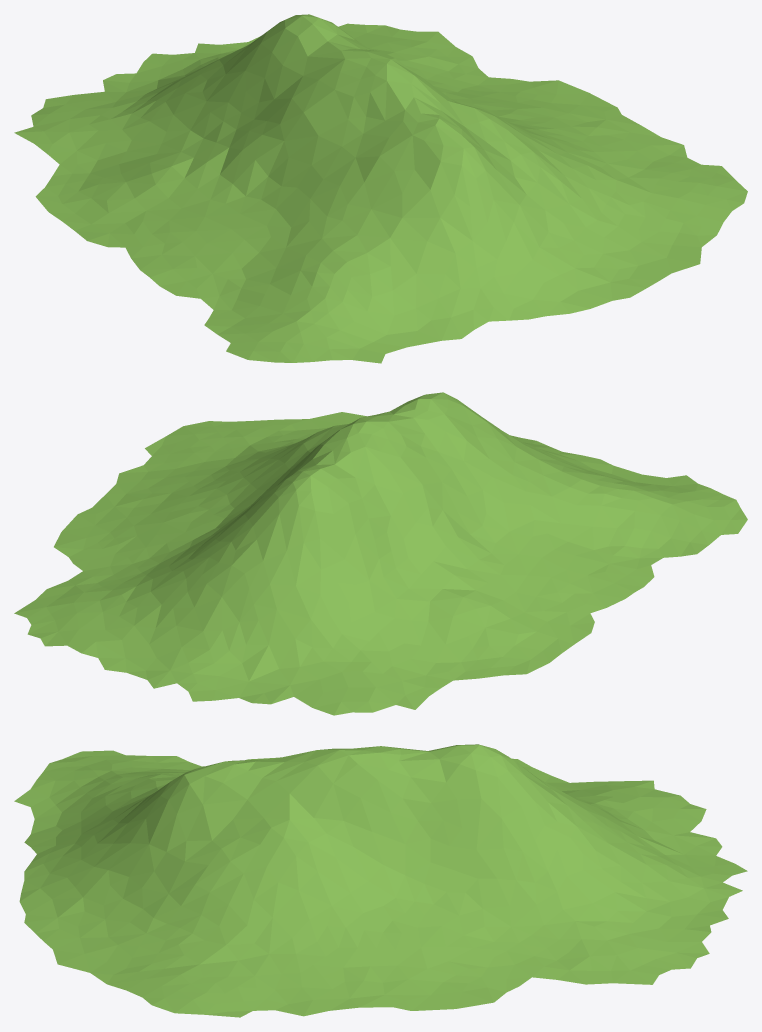
The model's file is MT_Mountain_L_a_22.fbx.
3 views of the same model, one above another, from view 1: azimuth 30°, elevation 25°; view 2: azimuth 150°, elevation 25°; view 3: azimuth 270°, elevation 25° (orthographic). The views are drawn at different scales.
Parts seen in each view (by area): view 1: MT_Mountain_L_a_22; view 2: MT_Mountain_L_a_22; view 3: MT_Mountain_L_a_22.
Boxes of the visible parts, x1=… form: MT_Mountain_L_a_22: x1=14, y1=14, x2=747, y2=363; MT_Mountain_L_a_22: x1=14, y1=392, x2=747, y2=715; MT_Mountain_L_a_22: x1=14, y1=744, x2=747, y2=1017.
Size of the model in its own units: 7805 by 1816 by 9033.
